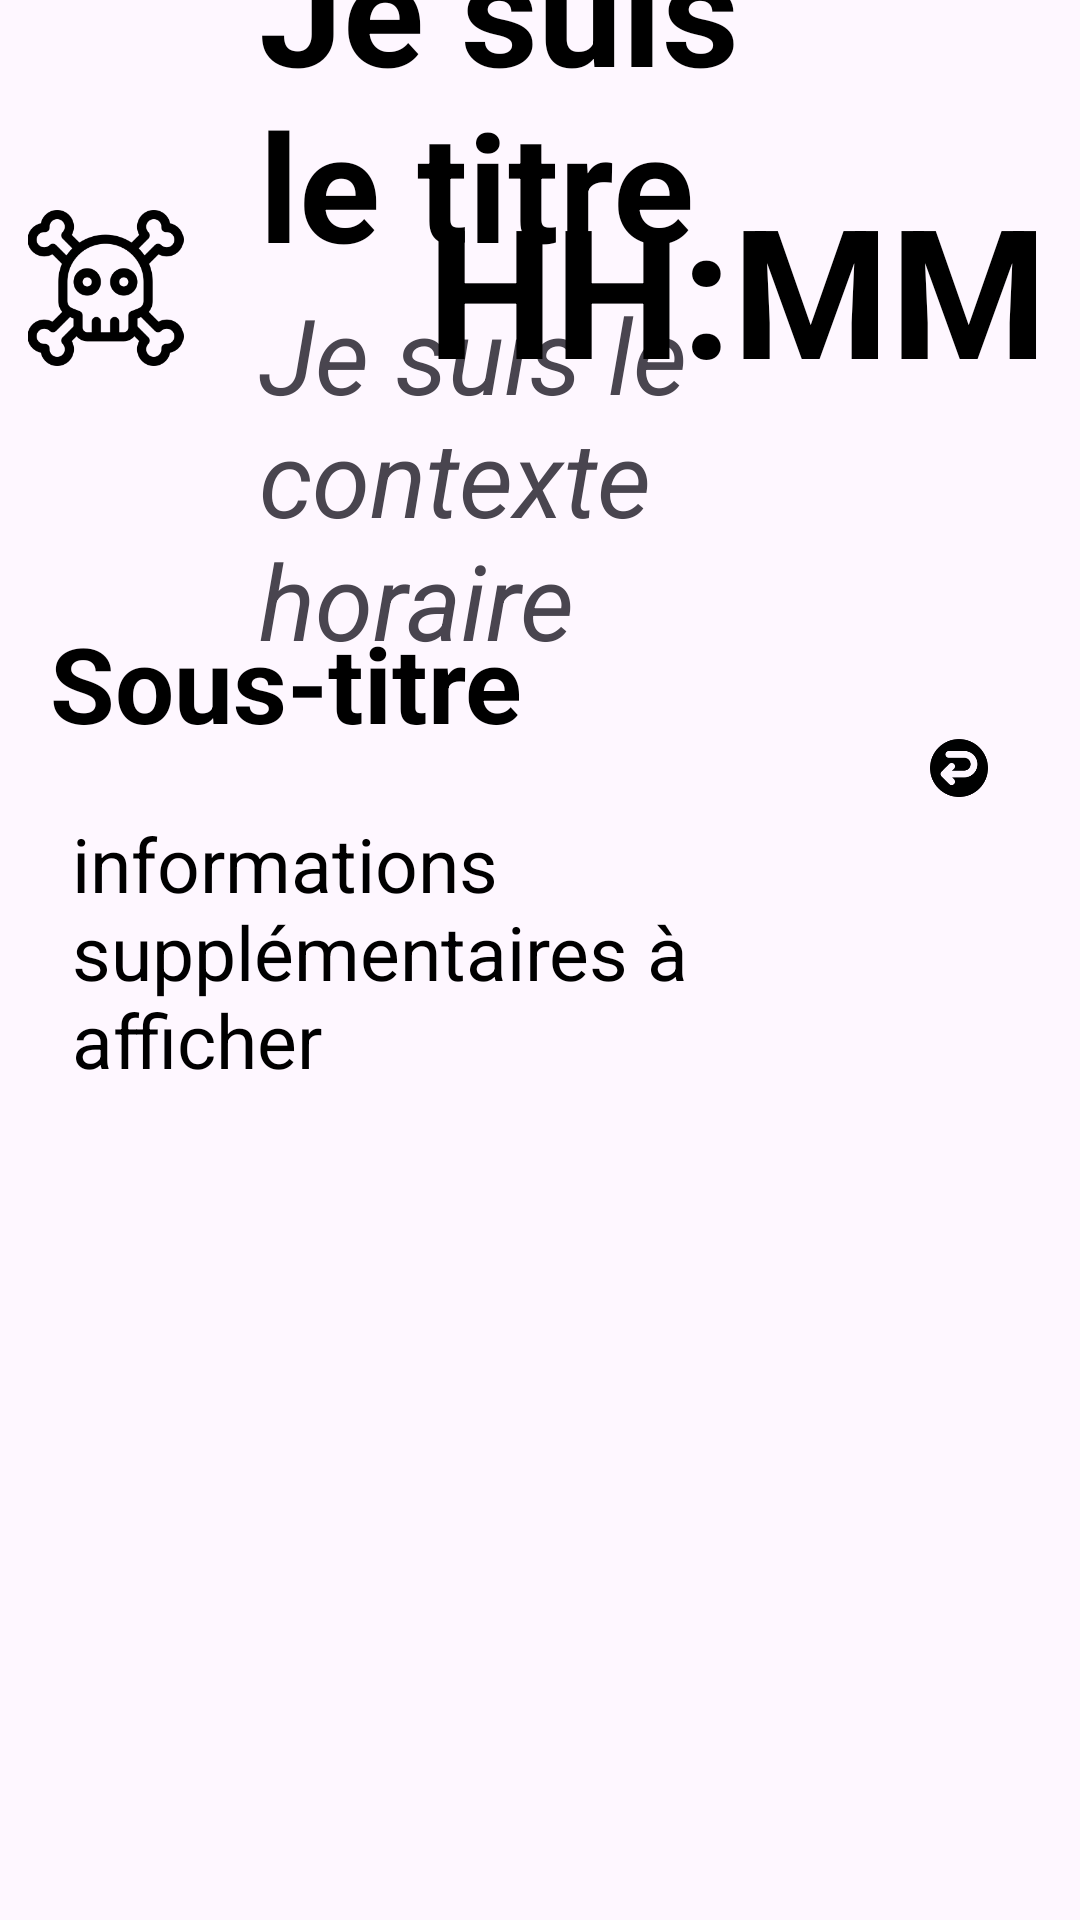

Where icons sit on this 1080 x 1920 app screen, as (x1, y1, x2, y2):
navigation pour sortir du fragment: (930, 739, 988, 797)
